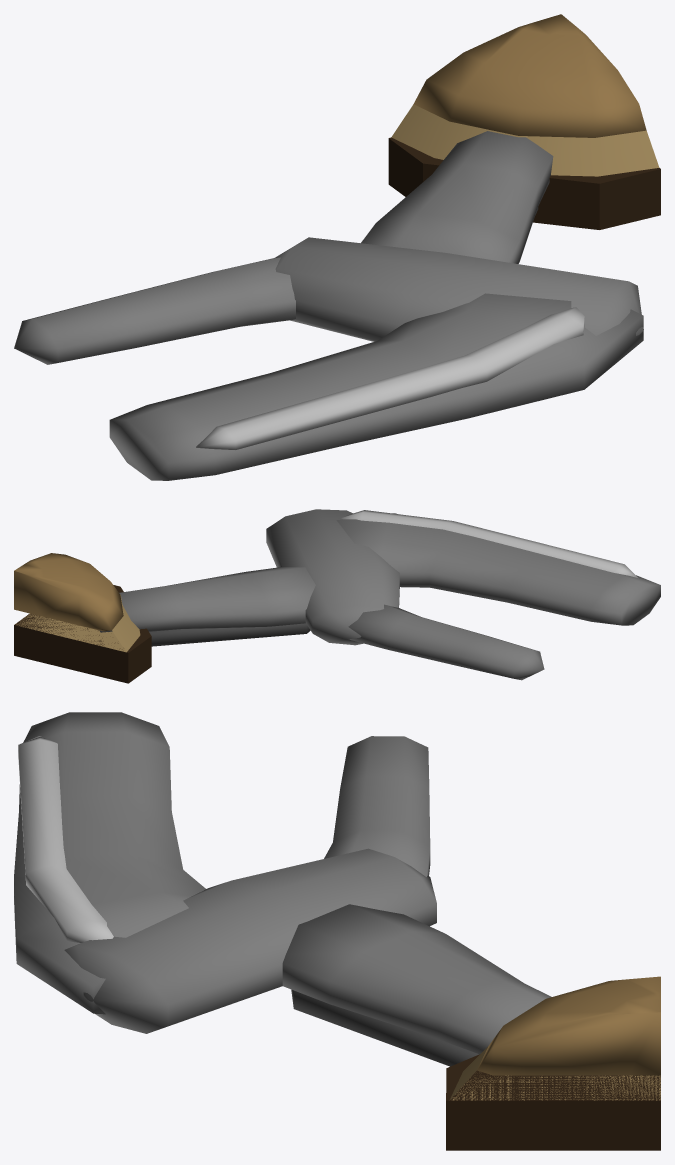
Rendered from newsh-hash-39.glb.
3 renders of one model, top to bottom at view 1: azimuth 30°, elevation 25°; view 2: azimuth 150°, elevation 25°; view 3: azimuth 270°, elevation 25°, orthographic. The views are drawn at different scales.
Parts seen in each view (by area): view 1: newsh-hash-39; view 2: newsh-hash-39; view 3: newsh-hash-39.
Boxes of the visible parts, x1,y1,x2,y2 form: newsh-hash-39: (14, 14, 660, 480); newsh-hash-39: (14, 509, 660, 683); newsh-hash-39: (14, 712, 660, 1150).
Bounding box in the file's own units: 1.54 × 0.2763 × 1.17.
